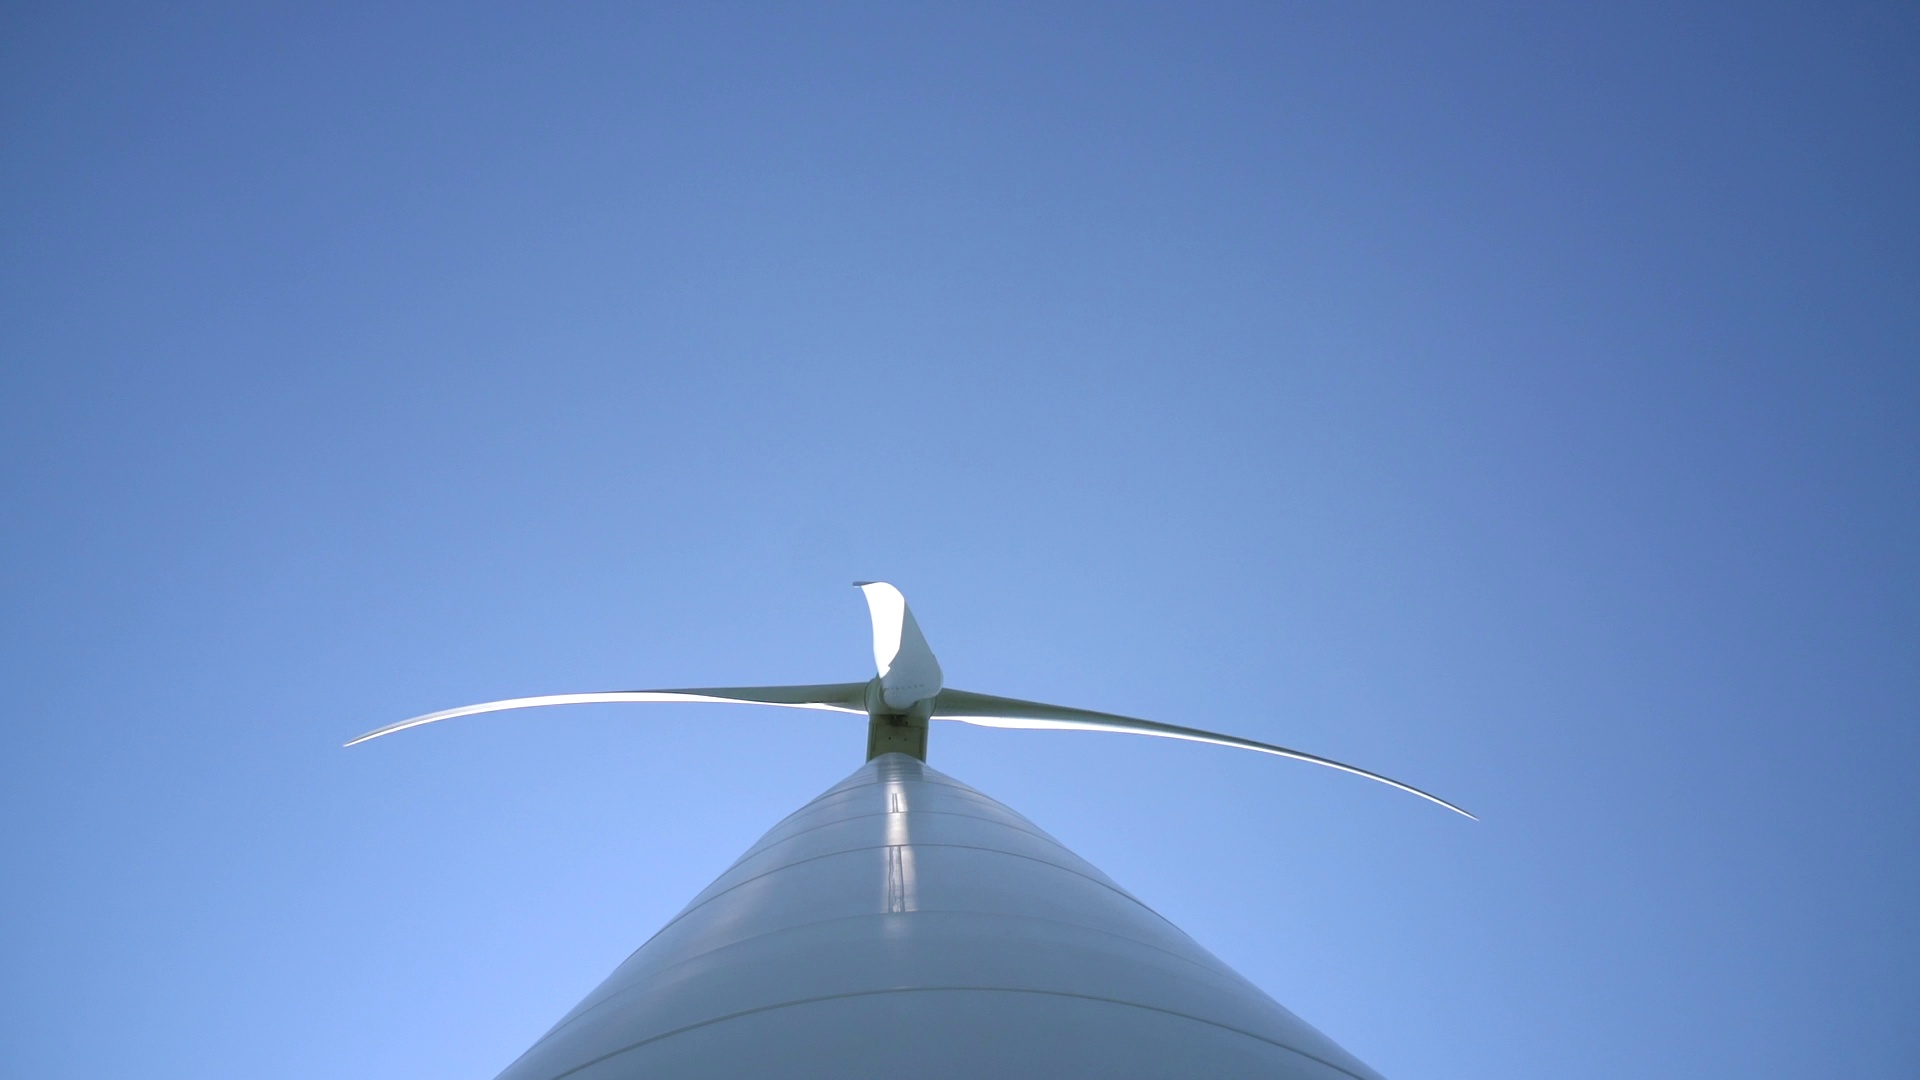turbine: (927, 647, 1539, 827), (289, 653, 889, 756), (843, 538, 960, 757)
